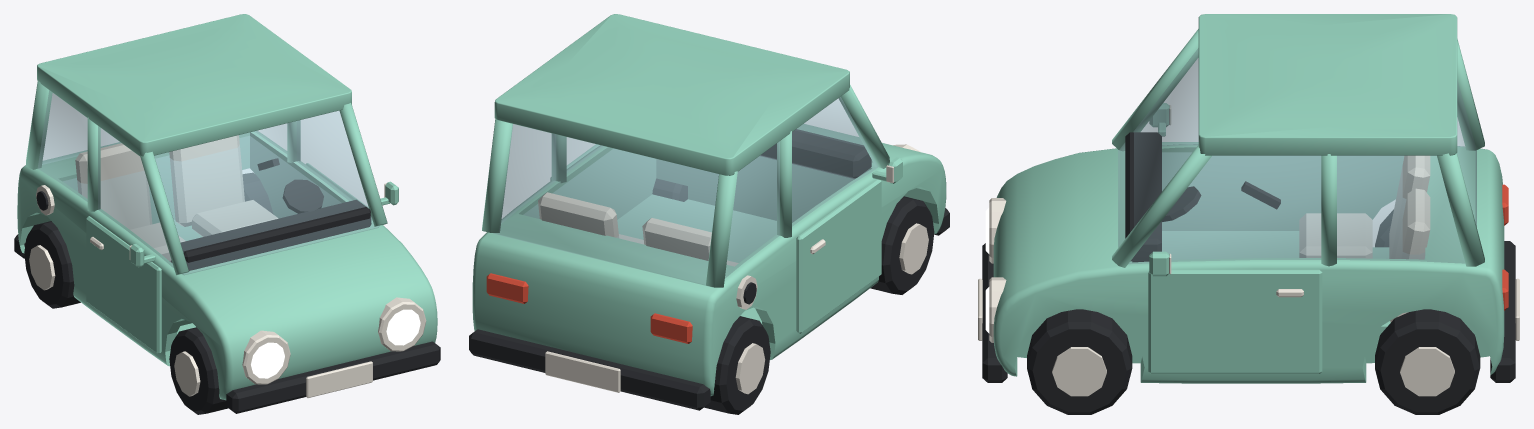
Rendered from pastel-mini-ev.glb.
The picture shows the model from 3 angles, left to right: view 1: azimuth 30°, elevation 25°; view 2: azimuth 150°, elevation 25°; view 3: azimuth 270°, elevation 25°; orthographic projection. The views are drawn at different scales.
Parts seen in each view (by area): view 1: Body, Cabin_Glass, Roof, Door_R, DriverSeat, PassengerSeat, Wheel_FR, Wheel_RR, Wheel_RL, Door_L; view 2: Body, Cabin_Glass, Roof, Door_R, Wheel_RR, Wheel_FR, DriverSeat, PassengerSeat, Wheel_FL; view 3: Body, Roof, Cabin_Glass, Door_L, Wheel_FL, Wheel_RL, PassengerSeat, DriverSeat, Door_R.
Part boxes in pixels (x1=…): Body: x1=14, y1=80, x2=440, y2=413; Cabin_Glass: x1=38, y1=90, x2=379, y2=274; Roof: x1=37, y1=14, x2=351, y2=156; Door_R: x1=86, y1=216, x2=161, y2=354; DriverSeat: x1=169, y1=135, x2=277, y2=236; PassengerSeat: x1=75, y1=143, x2=184, y2=262; Wheel_FR: x1=169, y1=327, x2=228, y2=414; Wheel_RR: x1=24, y1=221, x2=80, y2=308; Wheel_RL: x1=243, y1=173, x2=272, y2=213; Door_L: x1=306, y1=163, x2=398, y2=207; Body: x1=469, y1=85, x2=949, y2=410; Cabin_Glass: x1=493, y1=97, x2=878, y2=285; Roof: x1=494, y1=14, x2=849, y2=175; Door_R: x1=796, y1=157, x2=902, y2=333; Wheel_RR: x1=704, y1=316, x2=770, y2=414; Wheel_FR: x1=870, y1=196, x2=934, y2=294; DriverSeat: x1=538, y1=192, x2=643, y2=244; PassengerSeat: x1=642, y1=218, x2=738, y2=266; Wheel_FL: x1=652, y1=178, x2=687, y2=201; Body: x1=978, y1=29, x2=1519, y2=383; Roof: x1=1198, y1=14, x2=1457, y2=155; Cabin_Glass: x1=1118, y1=48, x2=1476, y2=263; Door_L: x1=1148, y1=251, x2=1322, y2=373; Wheel_FL: x1=1027, y1=309, x2=1132, y2=414; Wheel_RL: x1=1375, y1=309, x2=1480, y2=414; PassengerSeat: x1=1299, y1=155, x2=1430, y2=258; DriverSeat: x1=1390, y1=188, x2=1430, y2=321; Door_R: x1=1149, y1=103, x2=1198, y2=144.
Bounding box in the file's own units: 7.95 × 6.8 × 11.84.
